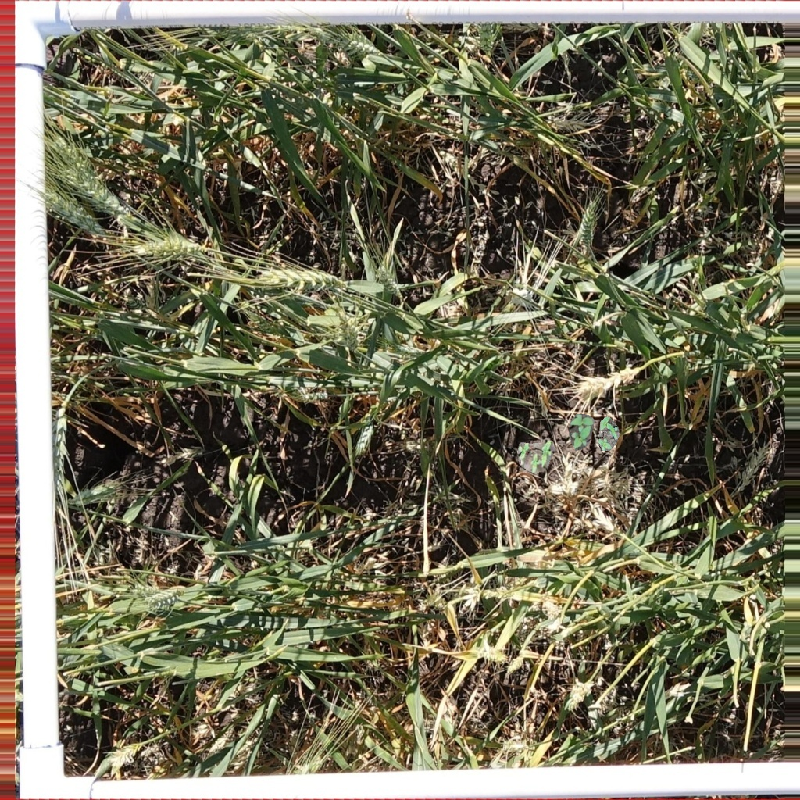spikelet: (47, 131, 135, 226), (251, 258, 348, 298), (38, 184, 106, 239), (127, 227, 212, 267), (570, 360, 640, 402), (317, 22, 383, 62), (126, 575, 190, 615), (63, 473, 126, 513), (570, 188, 607, 252), (271, 370, 333, 406), (328, 307, 370, 353), (372, 257, 404, 300)
weed: (587, 413, 627, 455), (517, 439, 555, 474), (569, 414, 595, 451)
